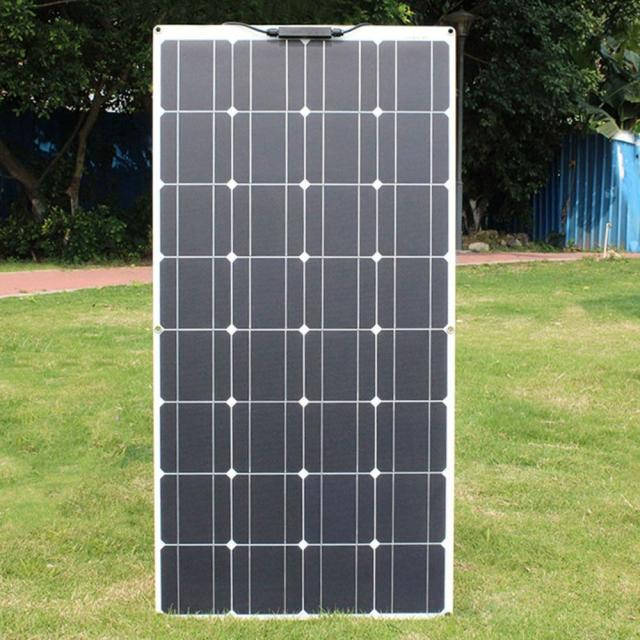clean-solar-panel: (234, 41, 250, 110)
